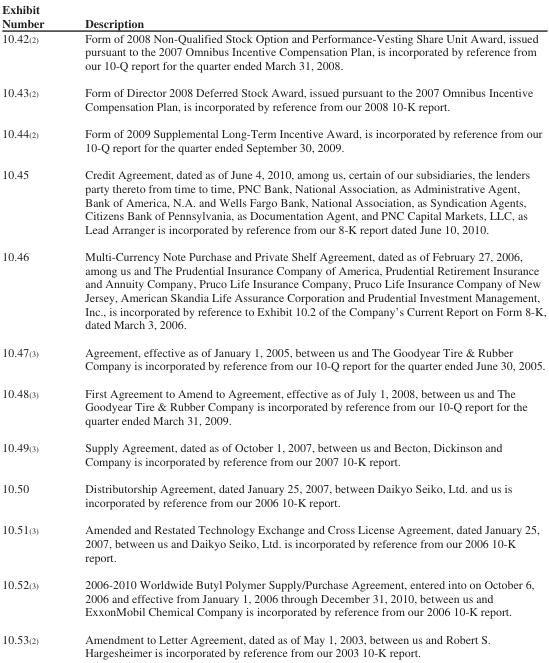table: (1, 0, 545, 659)
table column: (63, 0, 545, 659), (1, 0, 63, 659)
table column header: (1, 0, 545, 30)
table row: (1, 241, 545, 337), (1, 159, 545, 241), (1, 378, 545, 433), (1, 569, 545, 624), (1, 515, 545, 569), (1, 30, 545, 77), (1, 77, 545, 118), (1, 118, 545, 159), (1, 337, 545, 378), (1, 433, 545, 474), (1, 474, 545, 515), (1, 624, 545, 659), (1, 0, 545, 30)
